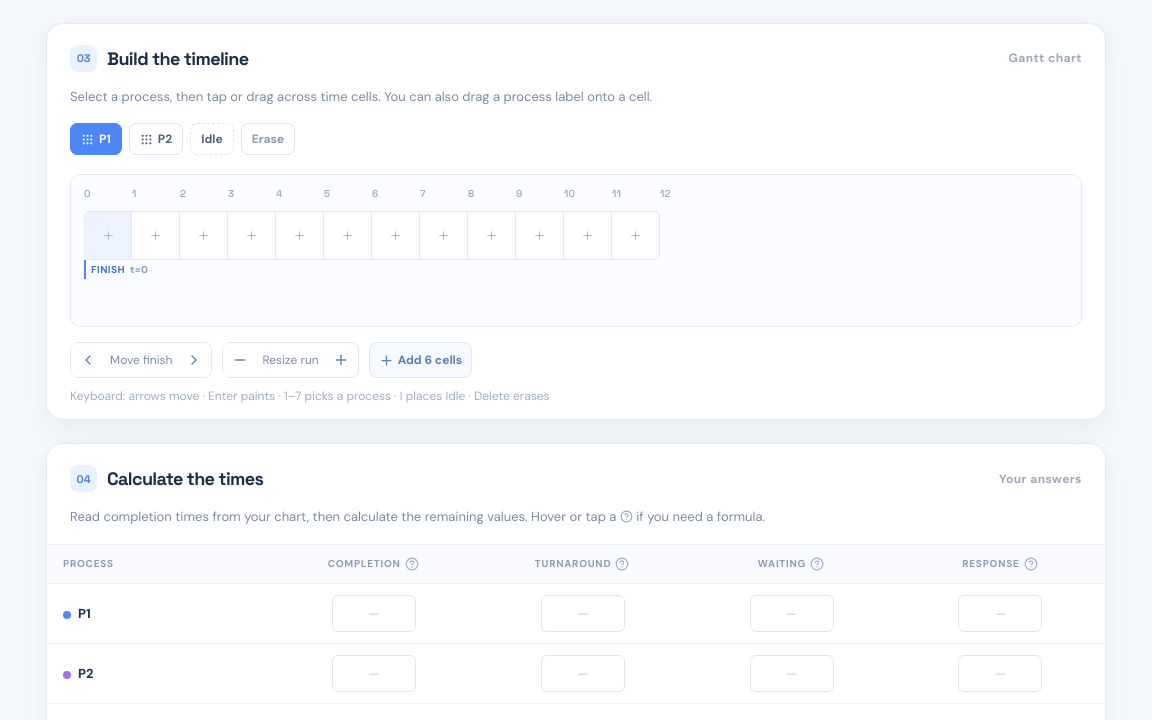
Test case: timeline and grading › marks missing and wrong cells separately, then unlocks the worked solution
(page scrolled)
What coordinates should you click on to do the following:
click the button named "Move finish right"
I would click on:
 (194, 360)
Its box is [178,343,212,377].
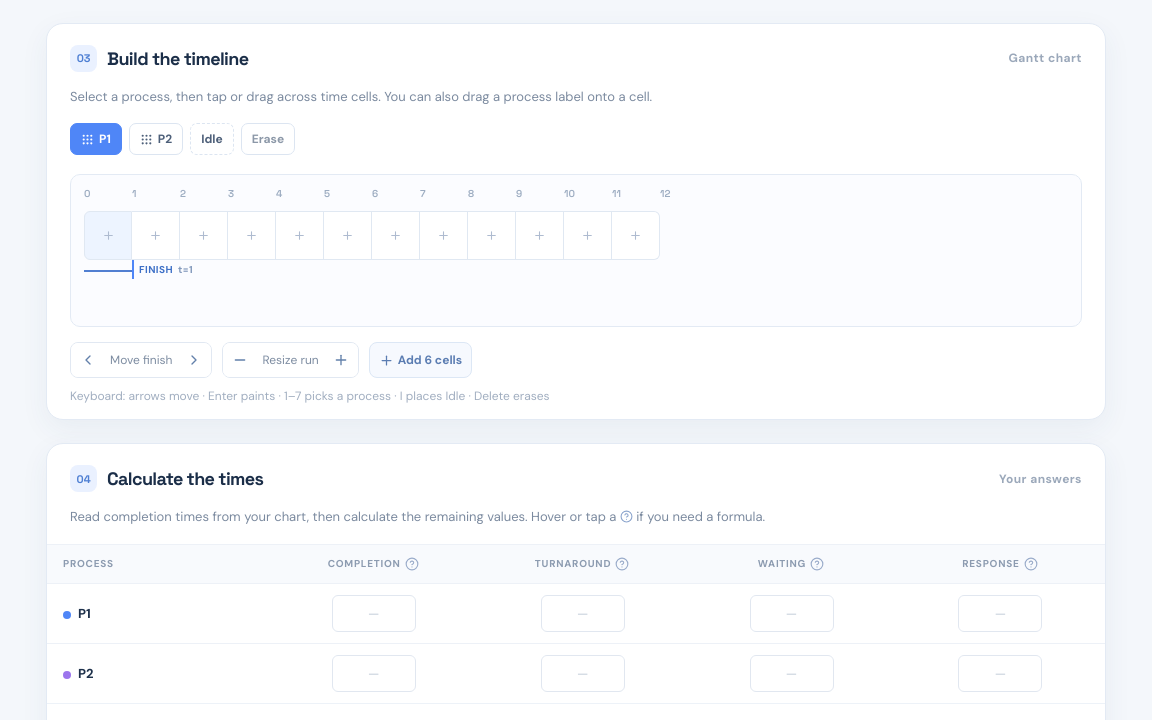
What coordinates should you click on to do the following:
click the button named "Move finish right"
I would click on:
 (194, 360)
Its box is [178,343,212,377].
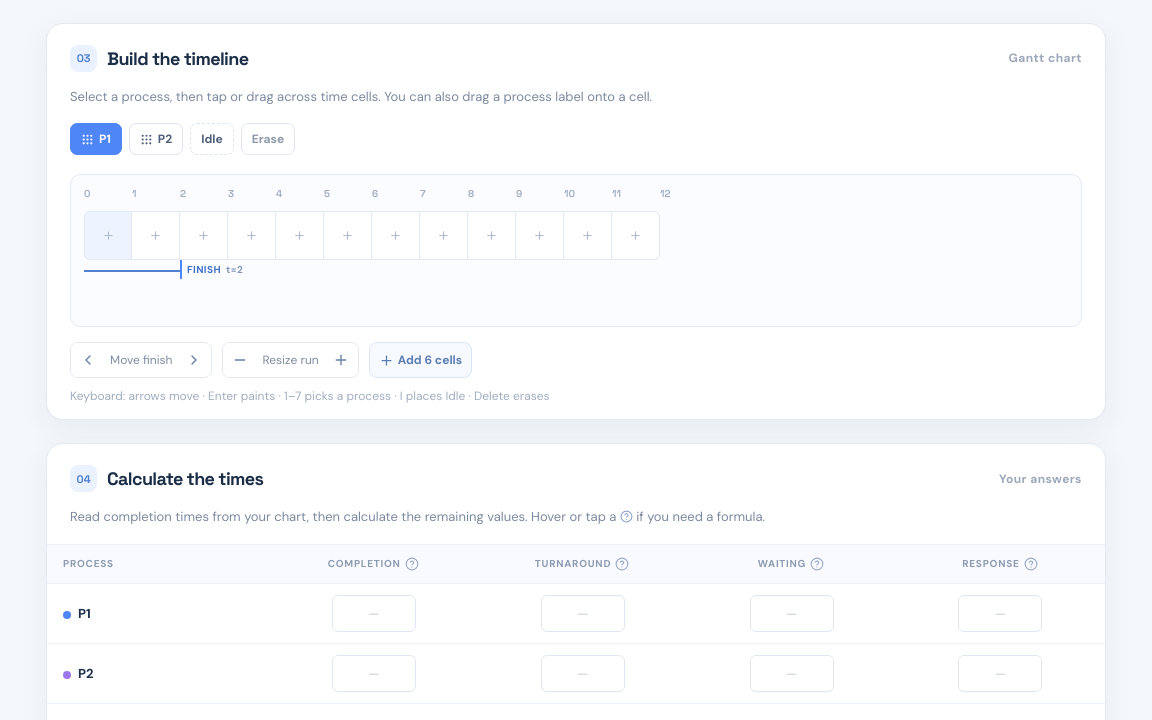
What coordinates should you click on to do the following:
click the button "P2"
I would click on:
 (156, 139)
Its box is [129,123,183,155].
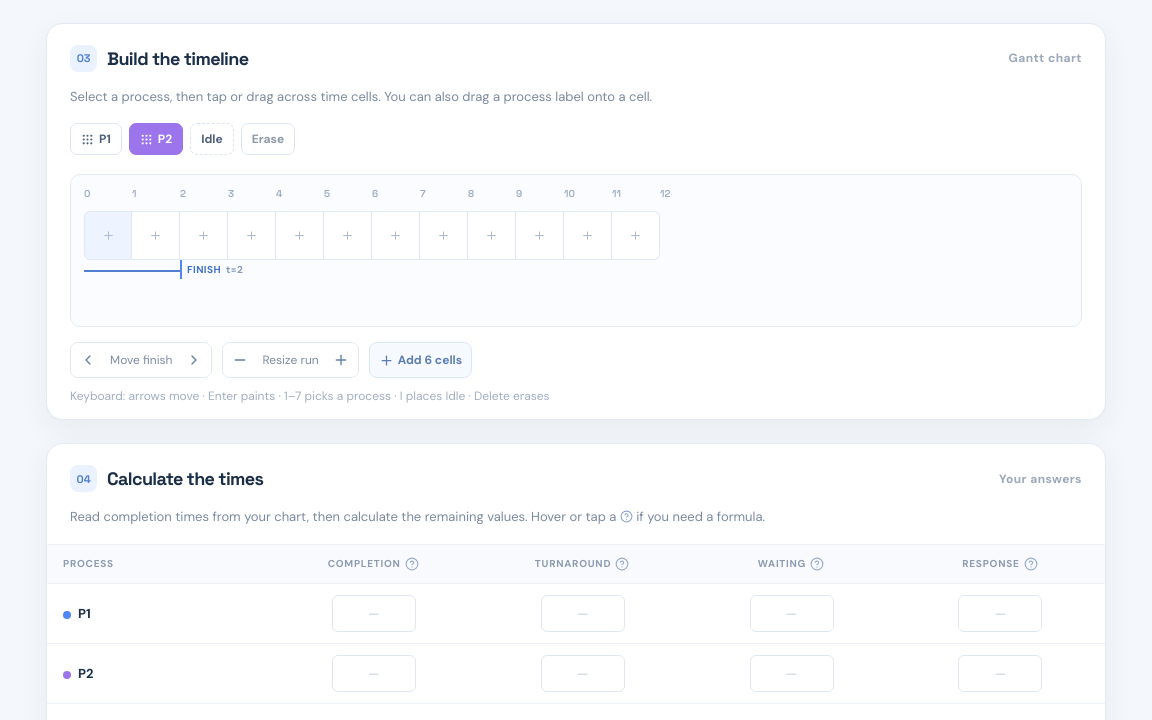
What coordinates should you click on to do the following:
click the button named "Time 0 to 1: empty"
I would click on:
 (108, 236)
Its box is [84,211,132,260].
(page scrolled)
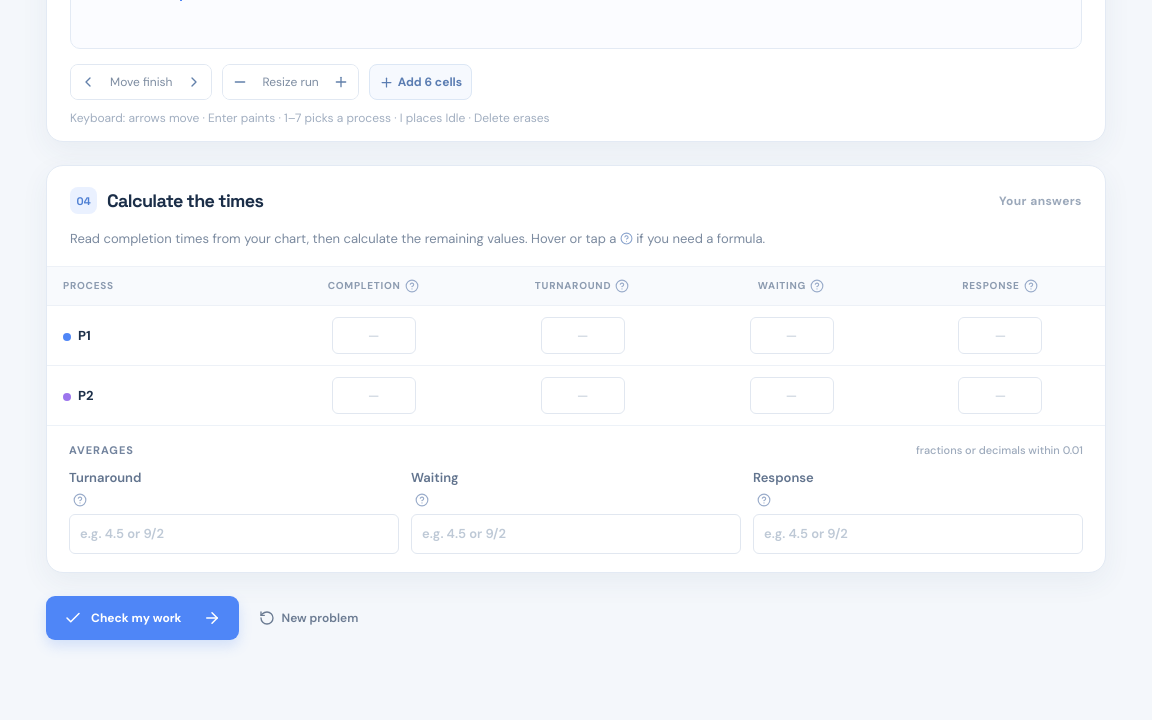
What coordinates should you click on to do the following:
click the button "Check my work"
I would click on:
 (142, 618)
Its box is [46,596,239,640].
(page scrolled)
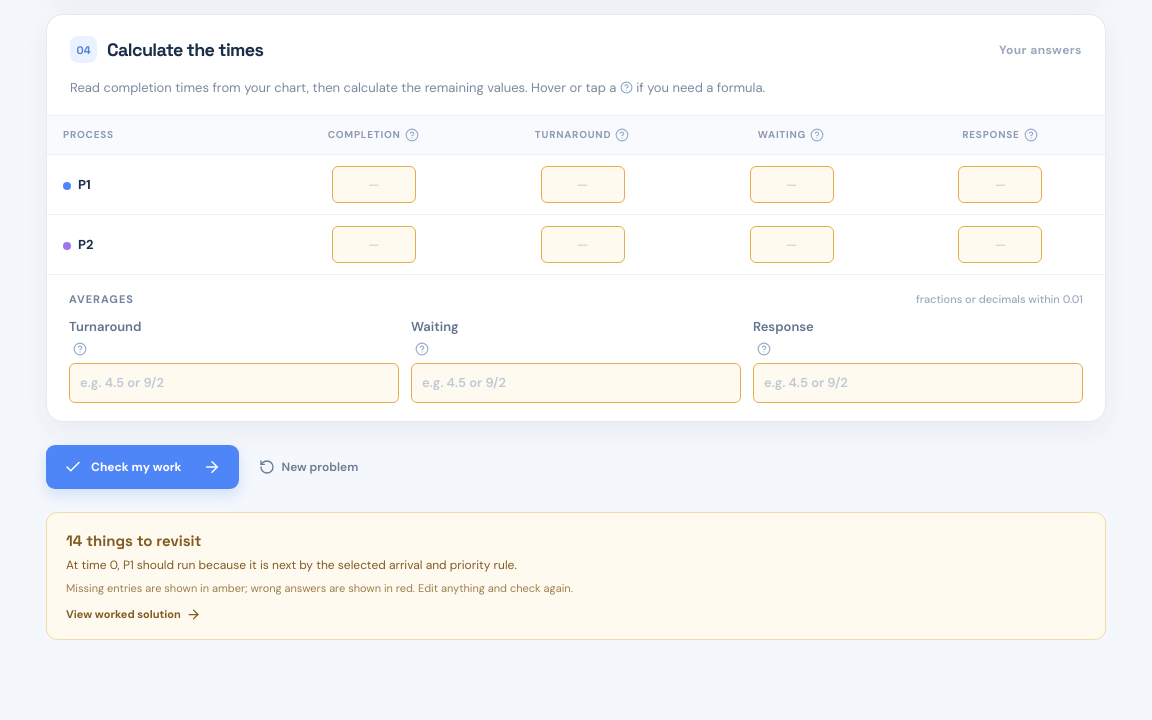
Now the text "At time 0, P1 should run" is shown, box [66,557,517,573]
Now the button "View worked solution" is shown
What coordinates should you click on to do the following:
click the button "View worked solution"
I would click on:
 (133, 614)
Its box is [66,607,201,622].
(page scrolled)
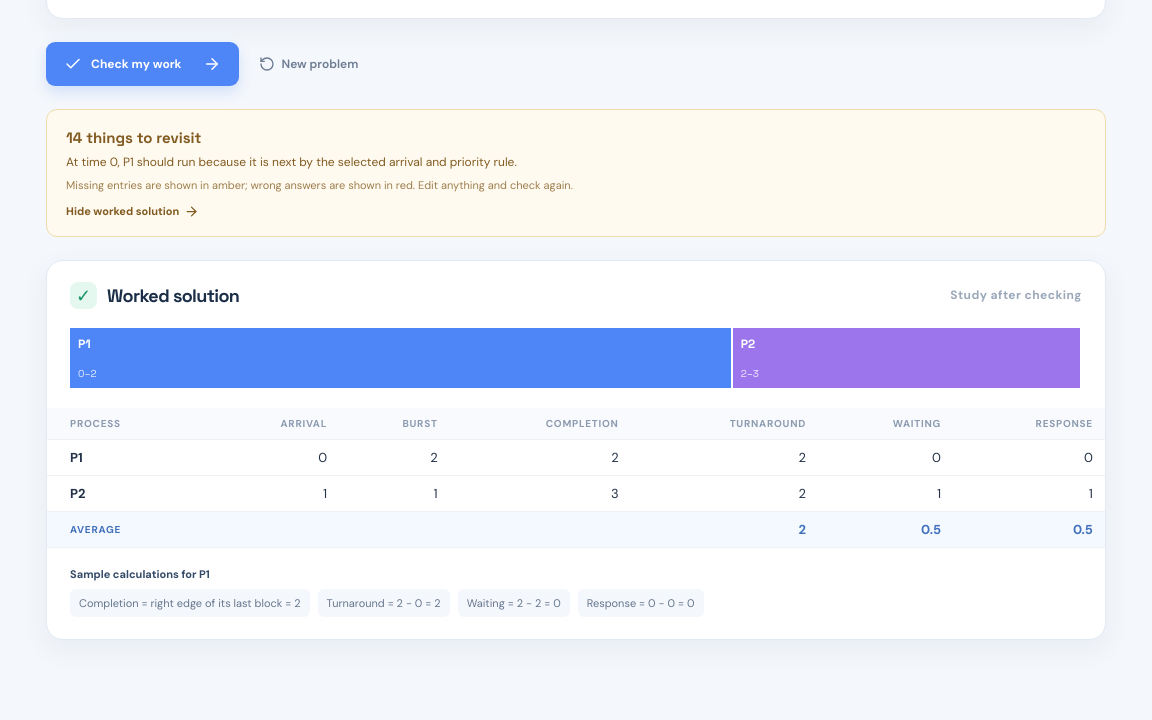
Now the heading "Worked solution" is shown, box [107,284,239,307]
Now the column heading "Arrival" is shown, box [207,408,339,439]
Now the column heading "Burst" is shown, box [339,408,450,439]
